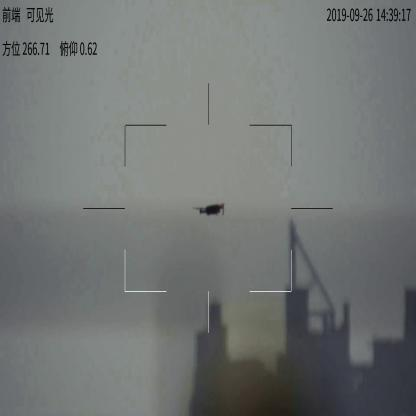uav: (194, 202, 230, 218)
